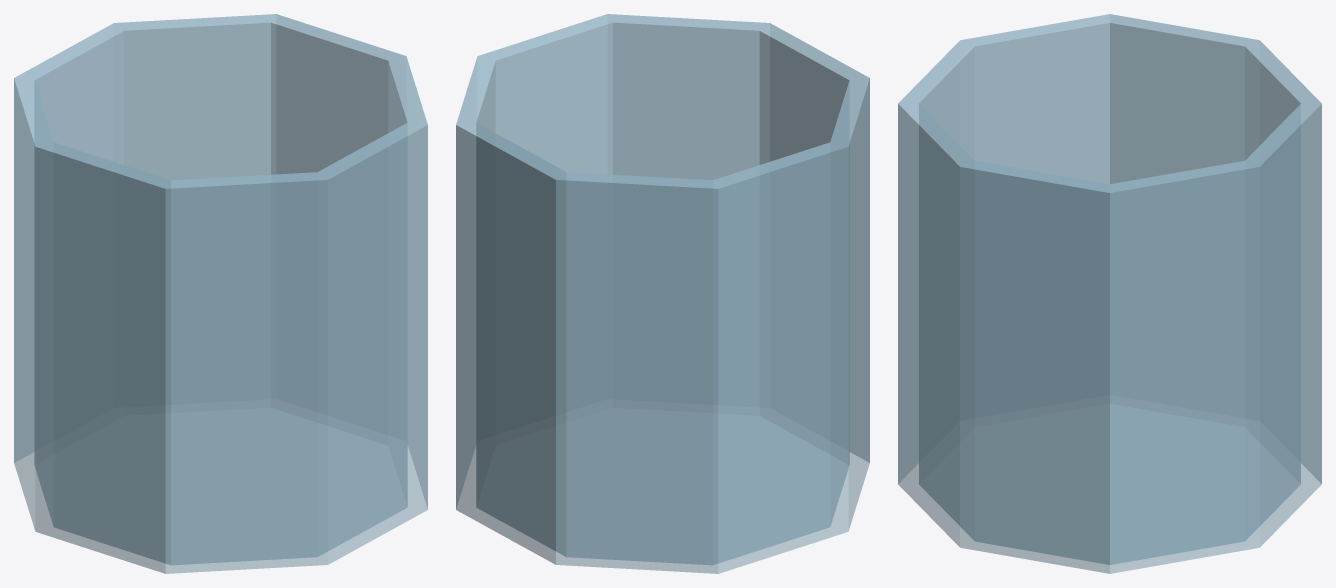
File: beaker.glb
3 views of the same model, side by side, from view 1: azimuth 30°, elevation 25°; view 2: azimuth 150°, elevation 25°; view 3: azimuth 270°, elevation 25° (orthographic).
Visible parts, largest first — view 1: Circle; view 2: Circle; view 3: Circle.
Part boxes in pixels (x1,y1,x2,y2): Circle: (14,14,427,573); Circle: (456,14,869,573); Circle: (898,14,1321,573).
Size of the model in its own units: 2.55 by 2.53 by 2.55.
